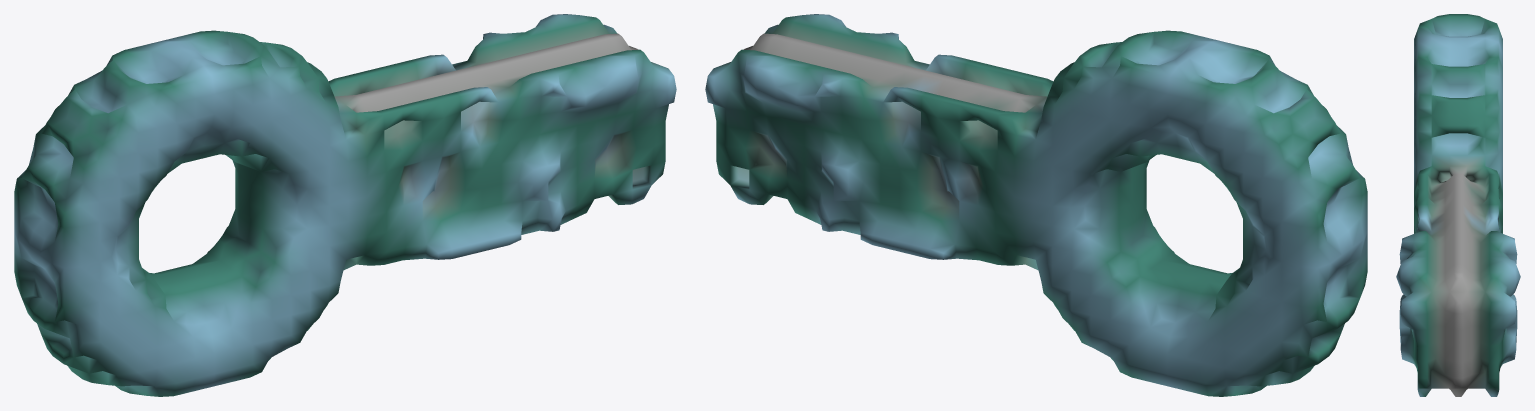
3 views of the same model, side by side, from view 1: azimuth 30°, elevation 25°; view 2: azimuth 150°, elevation 25°; view 3: azimuth 270°, elevation 25° (orthographic). The views are drawn at different scales.
Bounding box in the file's own units: 1.6 × 0.8 × 0.35.
